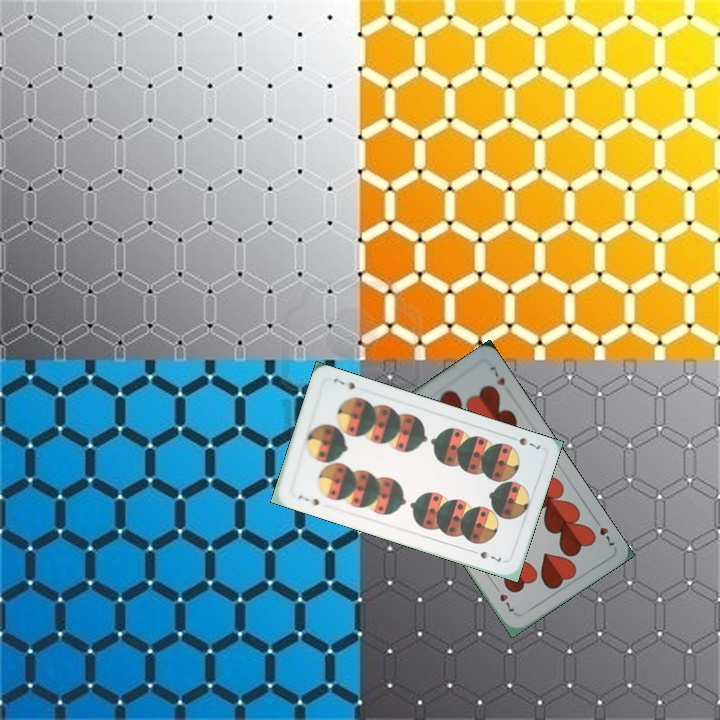H7: (590, 514, 617, 548)
S7: (515, 433, 543, 452), (294, 491, 322, 508)
